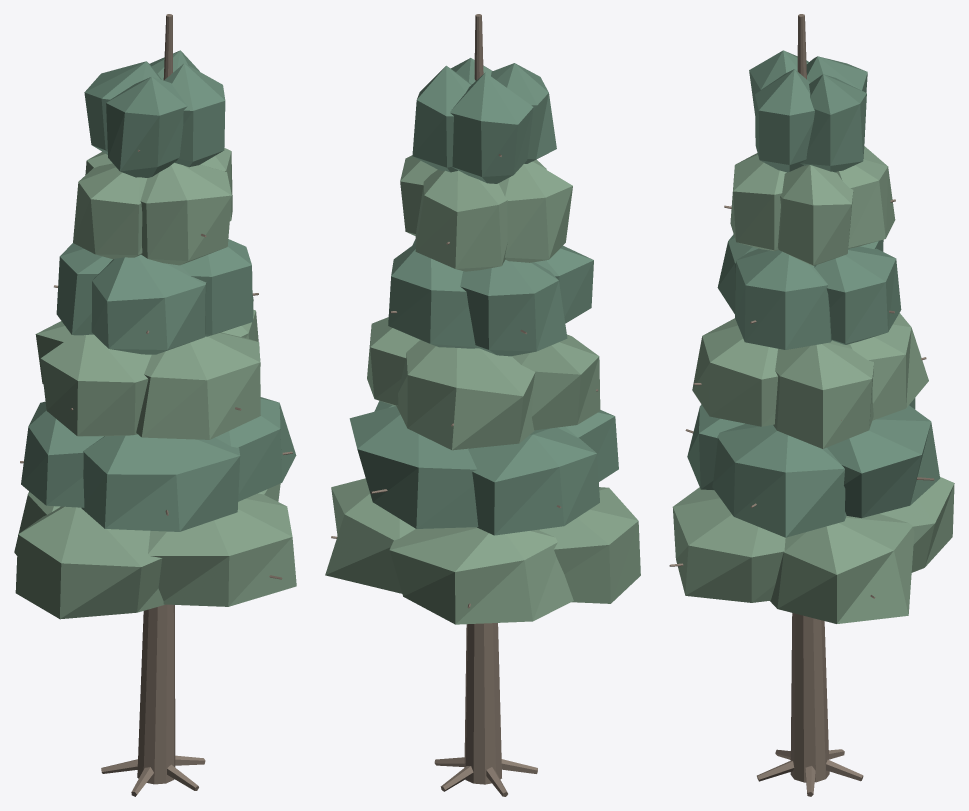
3 views of the same model, side by side, from view 1: azimuth 30°, elevation 25°; view 2: azimuth 150°, elevation 25°; view 3: azimuth 270°, elevation 25° (orthographic).
Bounding box in the file's own units: 9.28 × 24.61 × 8.33.
